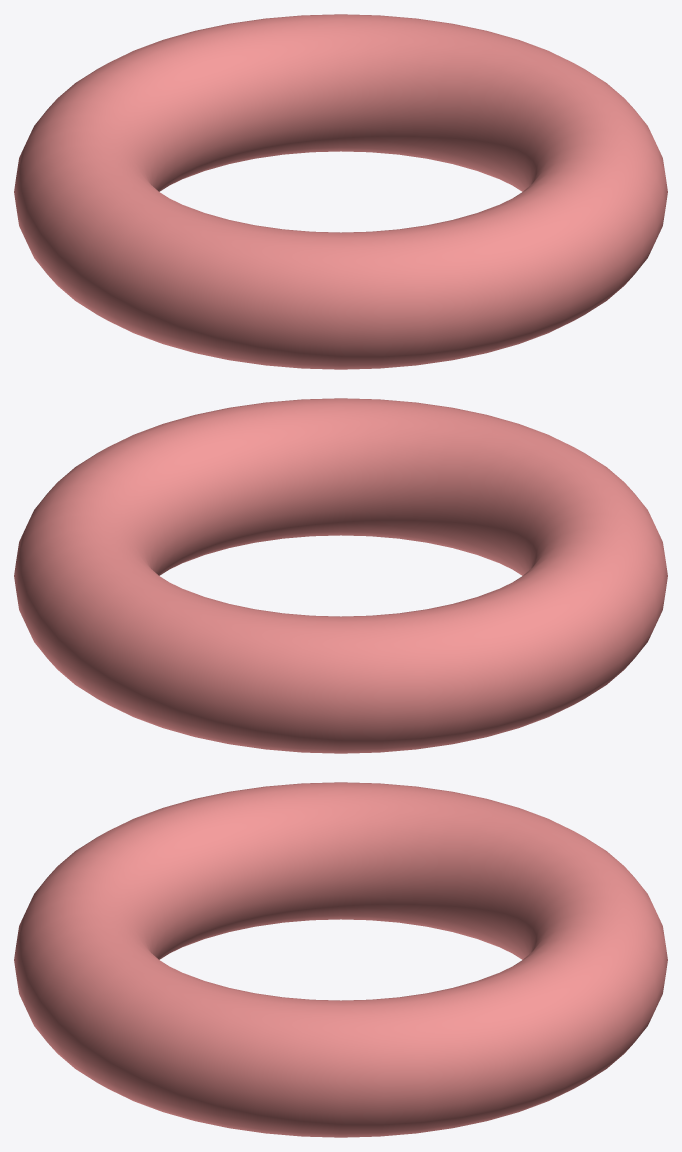
The model's file is torus_embedded.gltf.
3 renders of one model, top to bottom at view 1: azimuth 30°, elevation 25°; view 2: azimuth 150°, elevation 25°; view 3: azimuth 270°, elevation 25°, orthographic.
Visible parts, largest first — view 1: torus; view 2: torus; view 3: torus.
Boxes of the visible parts, bbox=[...] form: torus: bbox=[14, 14, 667, 369]; torus: bbox=[14, 398, 667, 753]; torus: bbox=[14, 782, 667, 1137].
Size of the model in its own units: 76 by 16 by 76.
